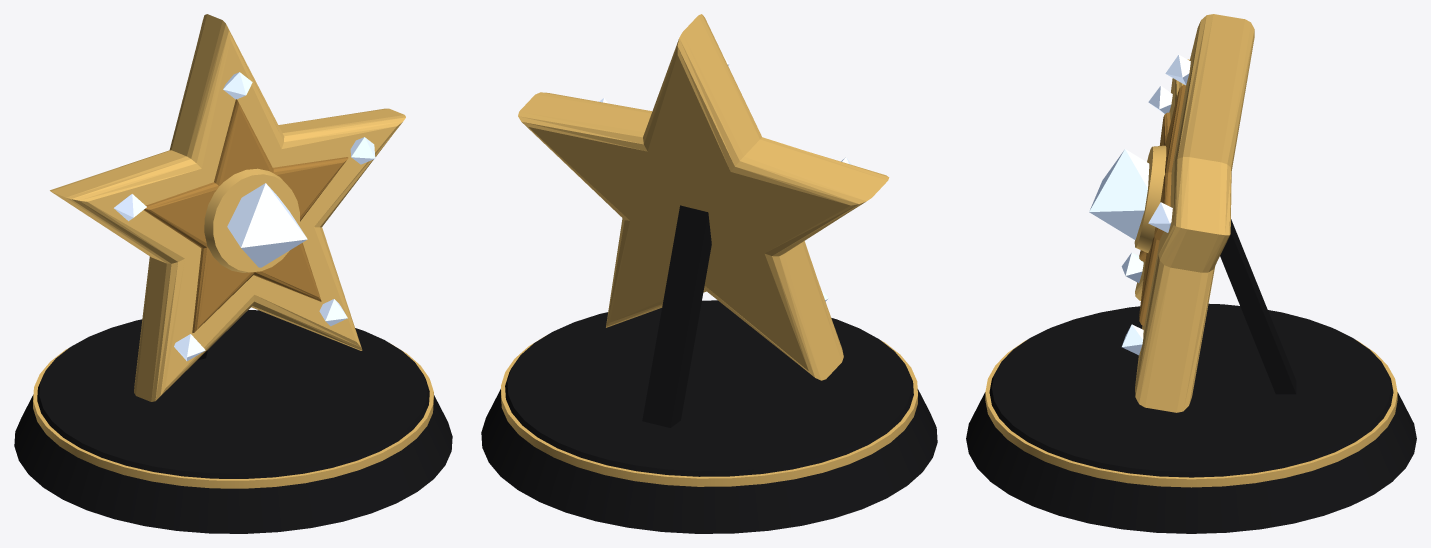
Rendered from star-brooch.glb.
3 views of the same model, side by side, from view 1: azimuth 30°, elevation 25°; view 2: azimuth 150°, elevation 25°; view 3: azimuth 270°, elevation 25° (orthographic). The views are drawn at different scales.
Parts seen in each view (by area): view 1: black, gold, gold-dark, gem; view 2: black, gold; view 3: black, gold, gem, gold-dark.
Part boxes in pixels (x1,y1,x2,y2): black: [14, 310, 452, 533]; gold: [33, 14, 433, 488]; gold-dark: [144, 99, 348, 332]; gem: [114, 72, 375, 361]; black: [481, 205, 937, 533]; gold: [501, 14, 917, 486]; black: [966, 219, 1416, 533]; gold: [985, 14, 1397, 487]; gem: [1089, 55, 1190, 355]; gold-dark: [1139, 85, 1185, 325].
Size of the model in its own units: 0.28 by 0.291 by 0.28.
